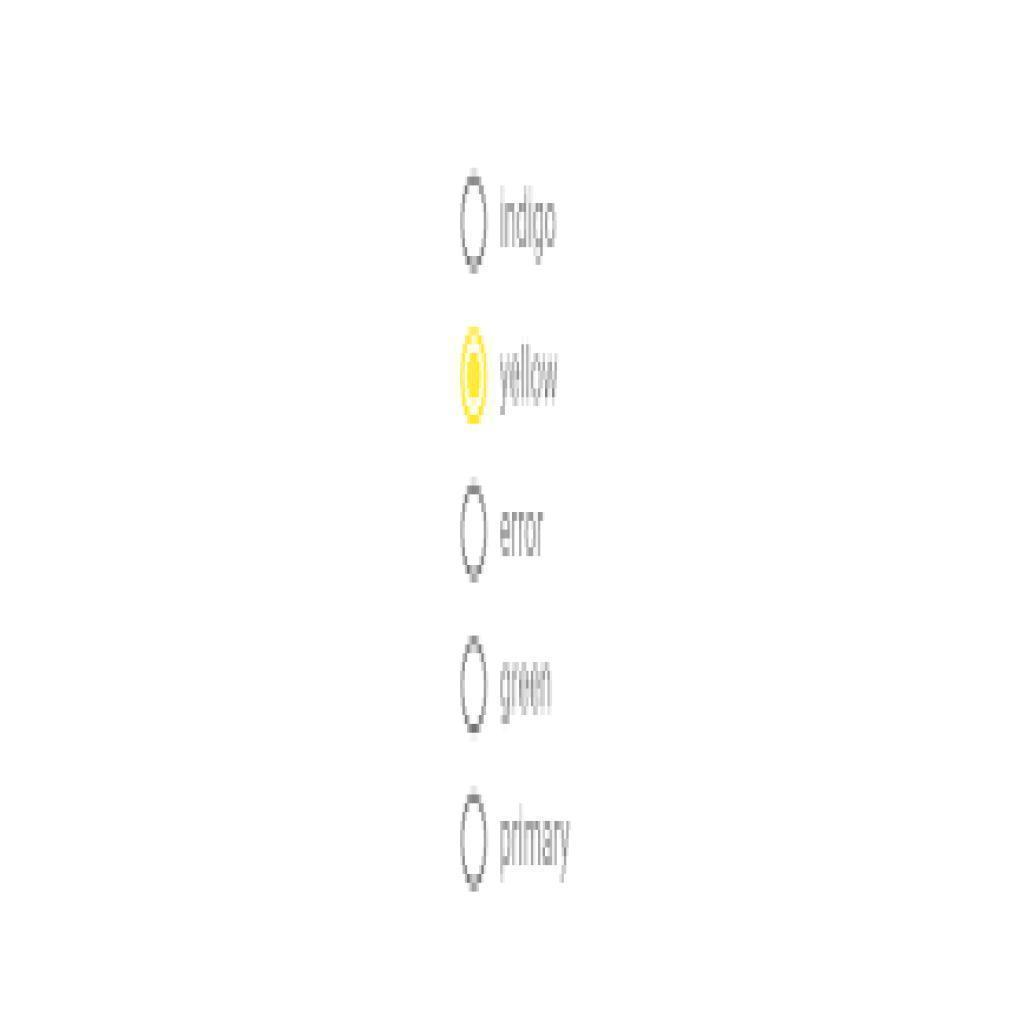radio: (455, 320, 492, 431), (457, 632, 491, 740), (459, 163, 490, 277), (457, 784, 488, 895), (456, 476, 487, 586)
